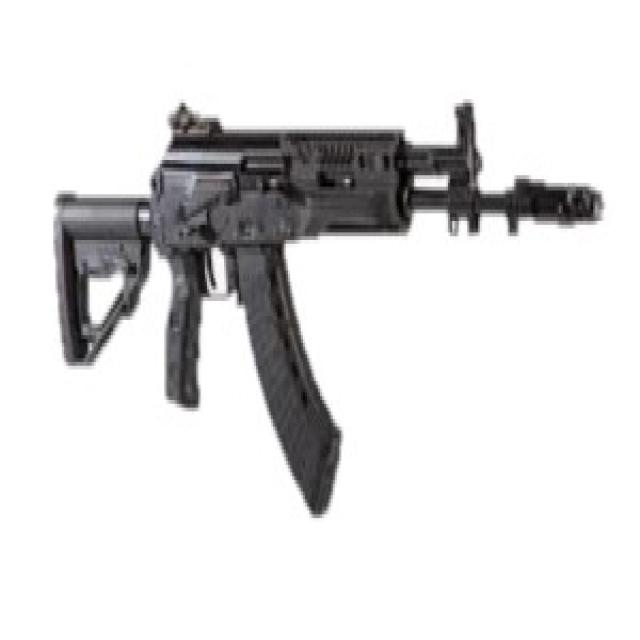rifle: (48, 92, 607, 526)
